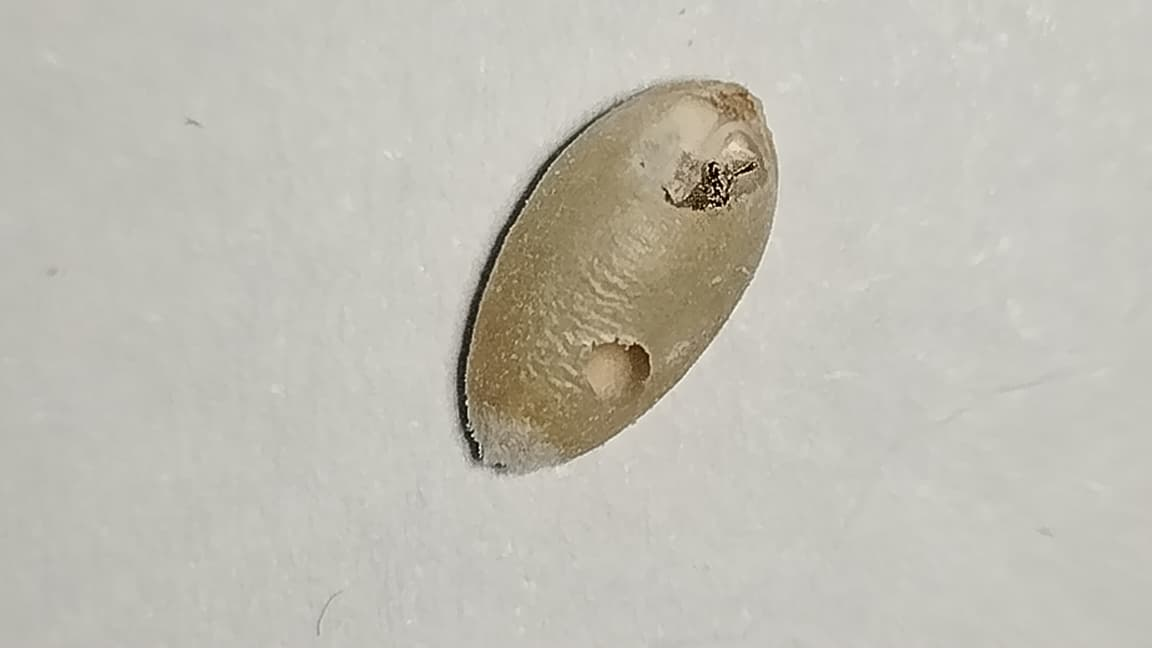damage: (466, 83, 776, 473)
insectdamage: (619, 84, 786, 236), (567, 322, 665, 412)
